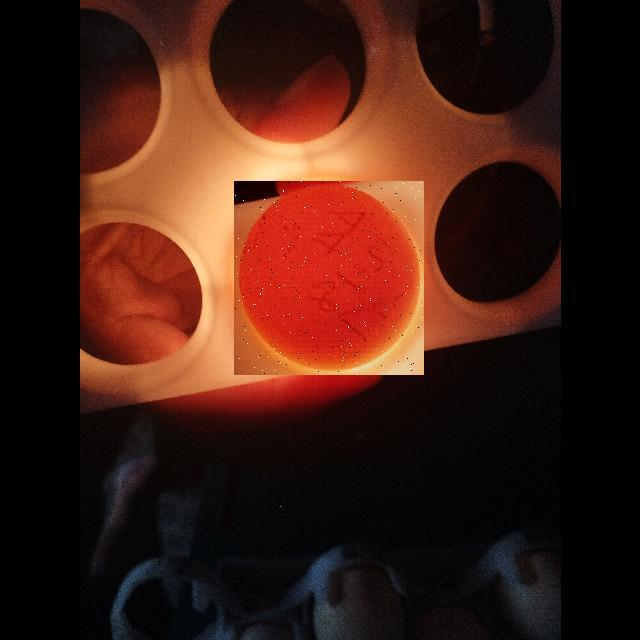Infertile: (234, 181, 424, 375)
